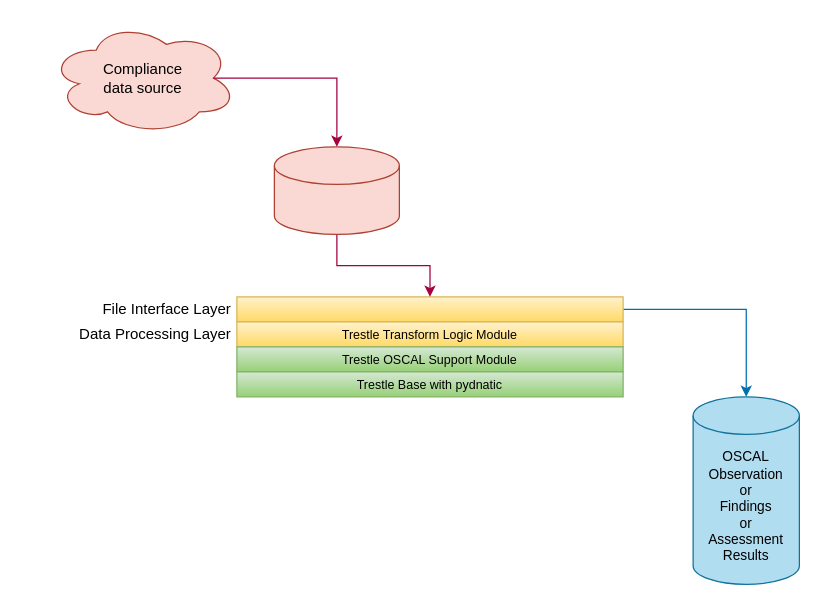
This 821x606 diagram has some shape labels left out. Here are the shapes that lost their labels. From the top down, the centre of each, then its label:
the point at 336,190: non-OSCAL data or evidence locker
the point at 429,309: Trestle Transform Command Module
